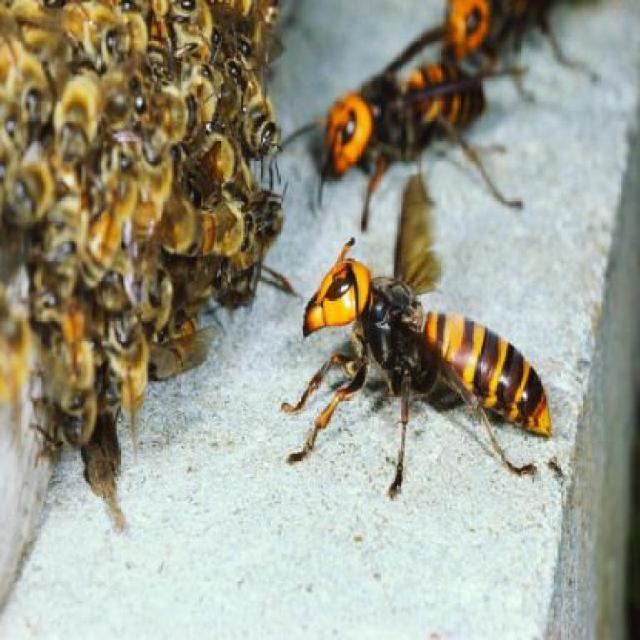Wasp: (295, 243, 549, 486), (300, 41, 532, 218)
